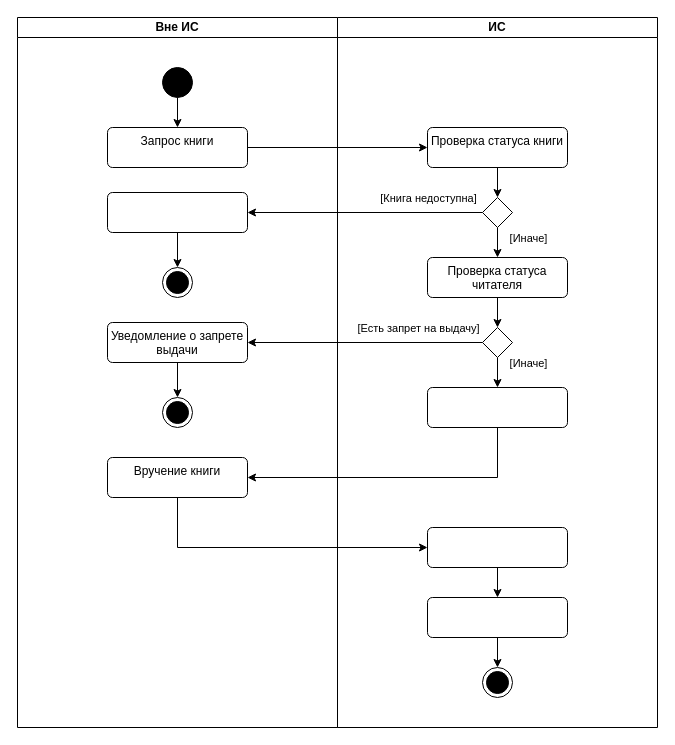
Image size: 675x745. Some labels were removed from this diagram. Each missing label, with the centre of its shape:
Запрос библиотекарю на выдачу книги: pixel 497 407
Обновление отчётных данных: pixel 497 617
Уведомление о недоступности книги: pixel 177 212
Формирование отчёта о выдаче книги: pixel 497 547
